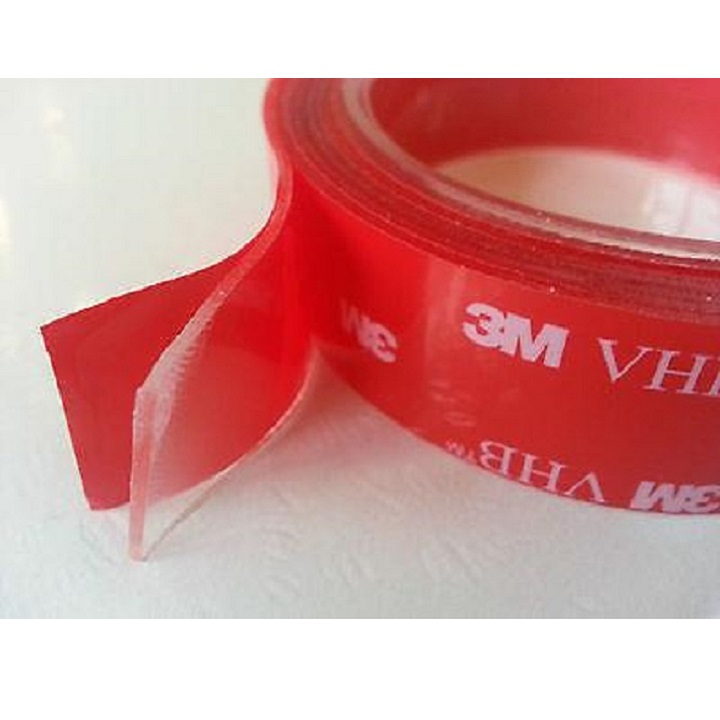3M: (451, 293, 574, 373), (332, 290, 413, 372), (632, 471, 720, 521)
